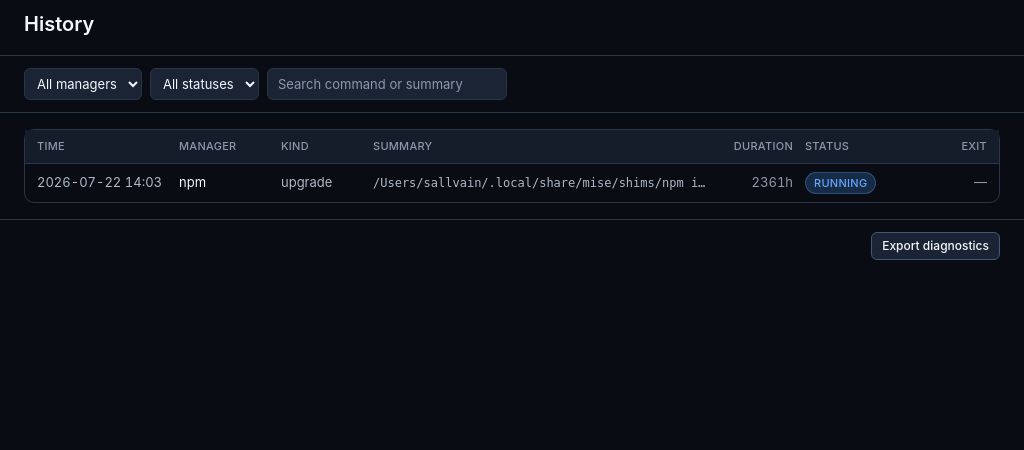
Test: history filters and export › expands a row to load the transcript tail
Click the text "npm install -g typescript@latest": coordinates (542, 183) [373,174,711,192]
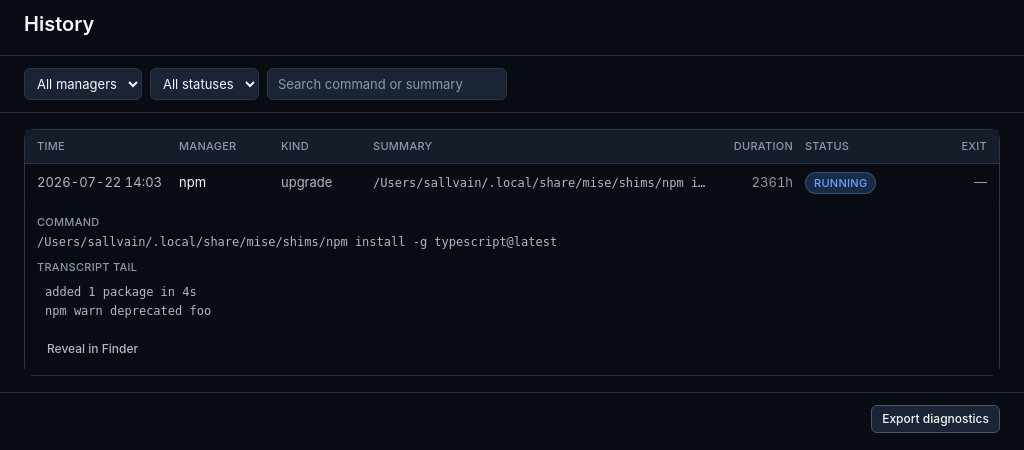
Result: the text "added 1 package in 4s npm warn deprecated foo" is shown at [37,277,987,327]
